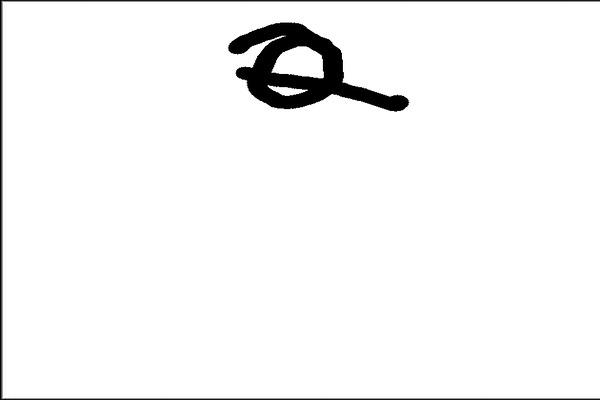Q: (226, 15, 412, 124)
